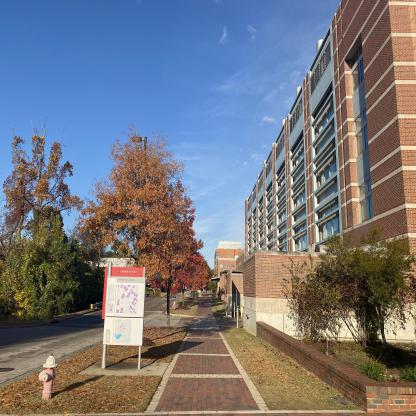EB-1: (243, 5, 416, 332)
